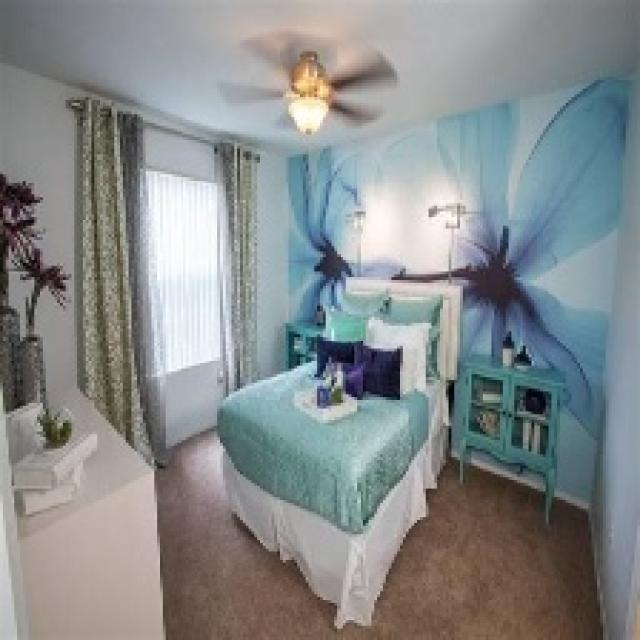Bed: (214, 277, 463, 629)
